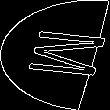M_E: (5, 28, 105, 82)
